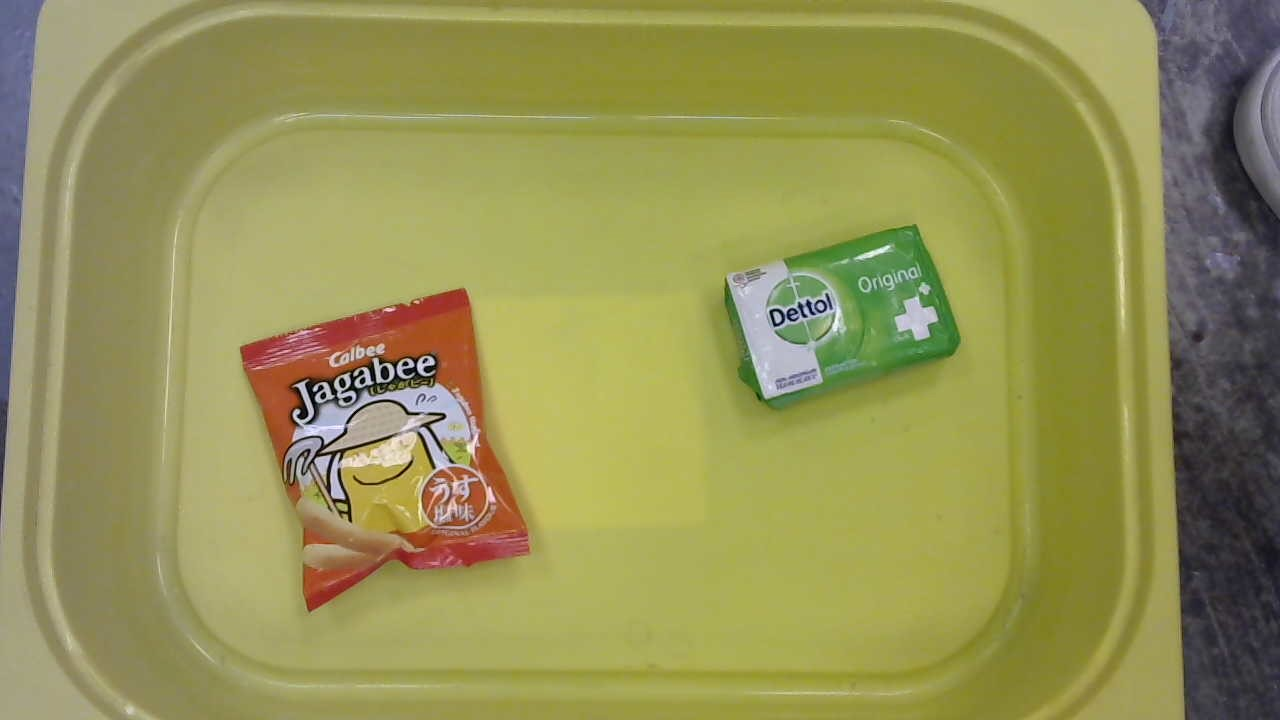Dettol: (718, 221, 967, 412)
JagabeeFarmer: (240, 286, 534, 616)
